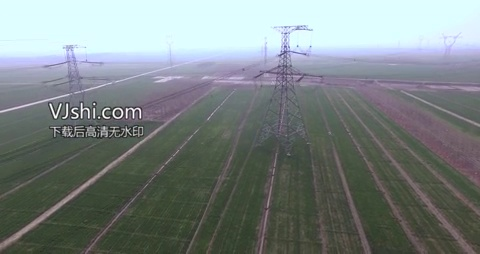tower_body: (252, 19, 317, 153)
tower_foot: (254, 112, 311, 150)
tower_head: (261, 22, 315, 34)
